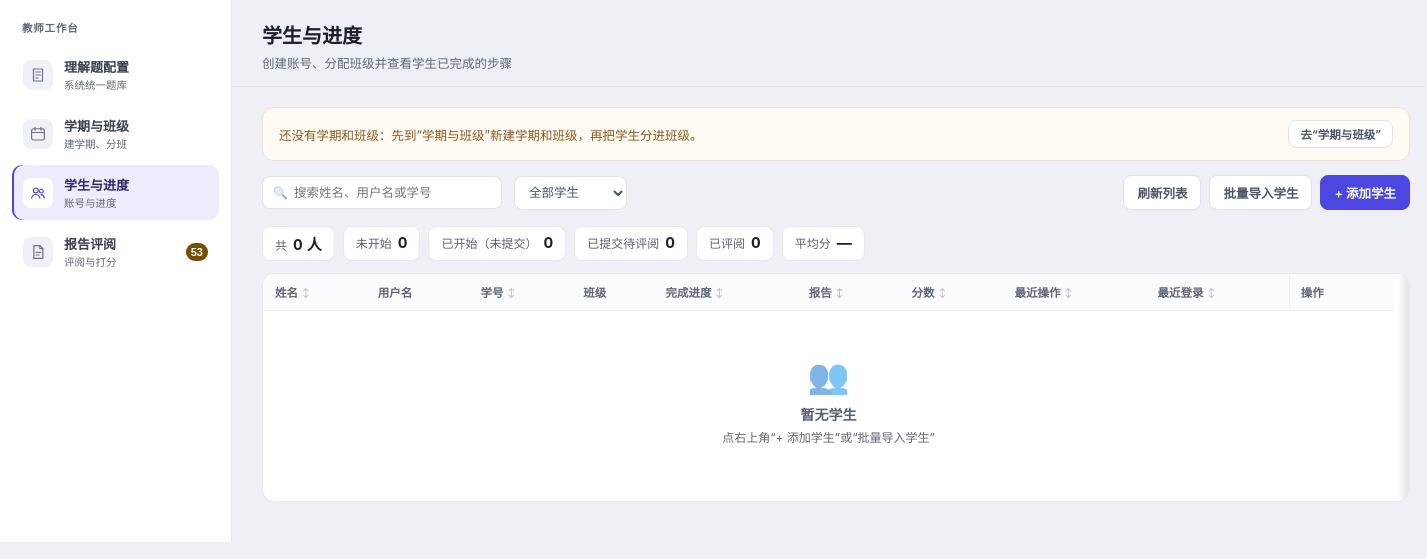
Test: dashboard fetches counts without downloading a report list
Check: the text with class "nav-badge" reads "53", box [191,246,203,258]
Click the button "学期与班级 建学期、分班": (116, 134) [12,106,219,161]
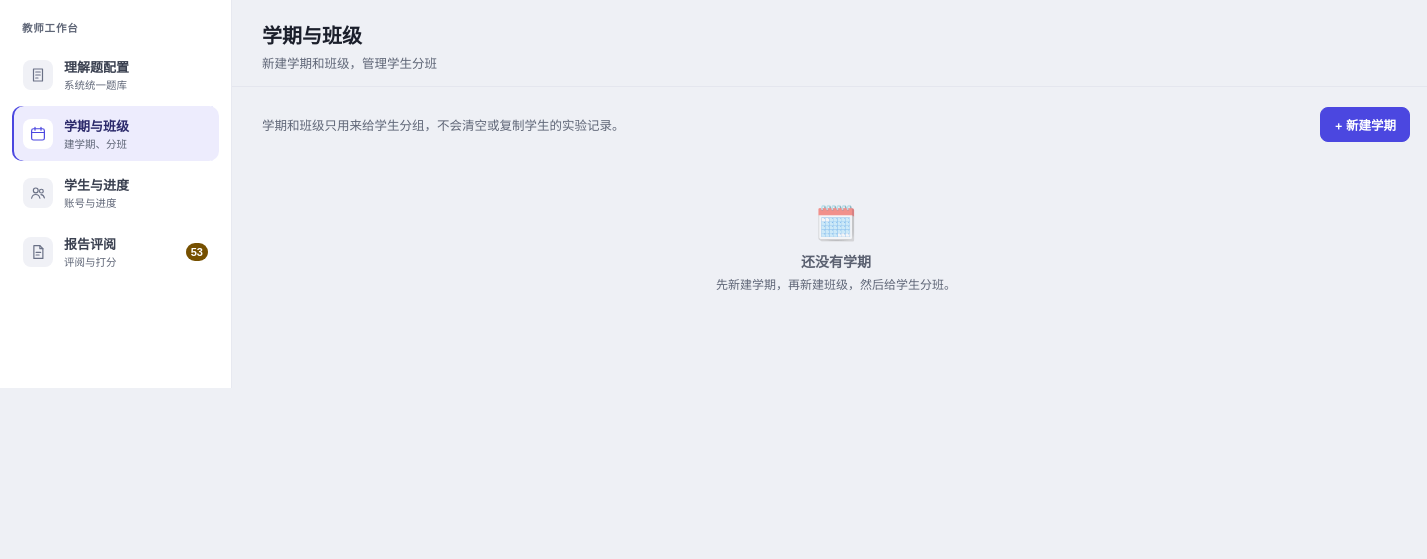
Check: the heading "学期与班级" is shown, box [262,24,362,48]
